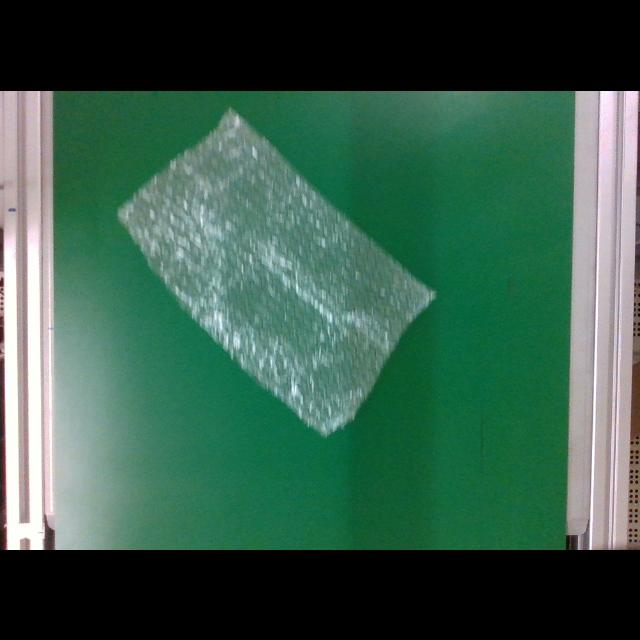scrap_plastic: (113, 105, 437, 439)
